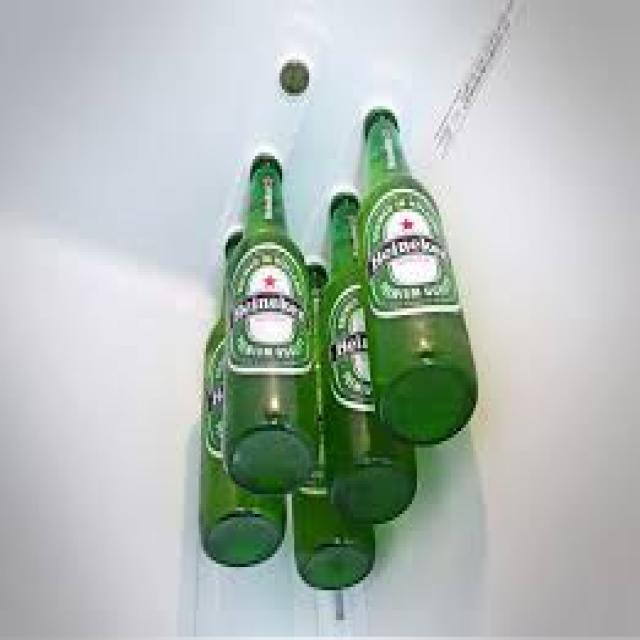glass: (351, 113, 476, 441), (314, 193, 414, 518), (221, 153, 314, 488), (292, 262, 373, 587), (199, 282, 285, 564)
